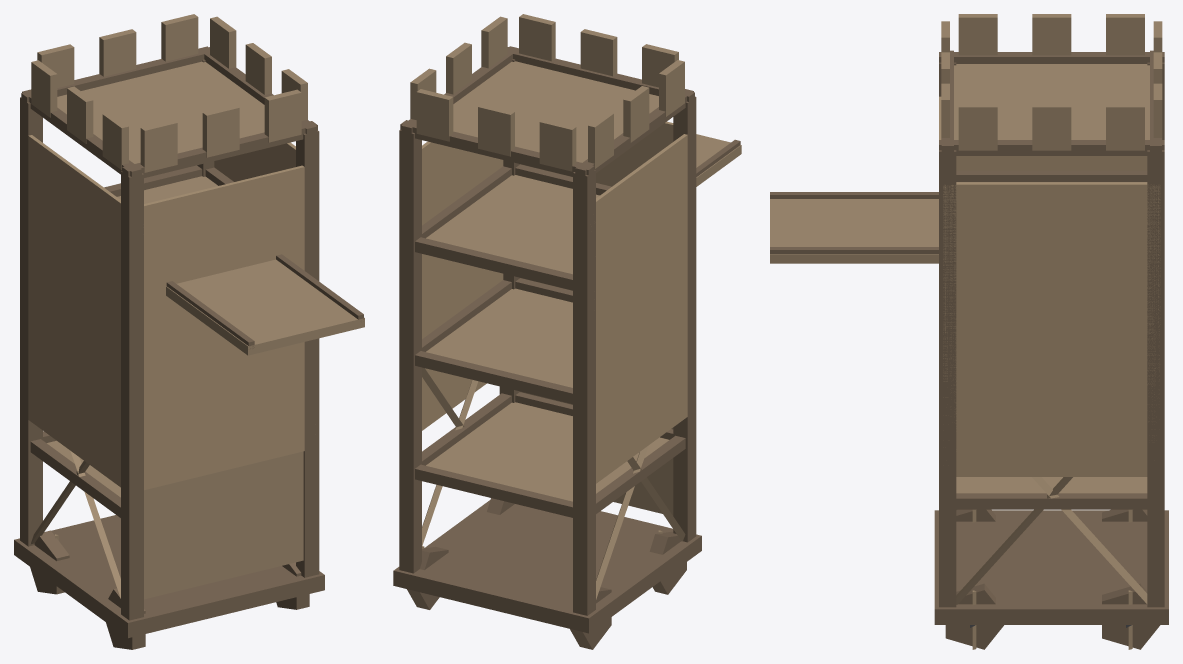
The model's file is siege_tower_lod.glb.
The picture shows the model from 3 angles, left to right: view 1: azimuth 30°, elevation 25°; view 2: azimuth 150°, elevation 25°; view 3: azimuth 270°, elevation 25°; orthographic projection. The views are drawn at different scales.
Parts seen in each view (by area): view 1: Body, Bridge, Wheel_0, Wheel_2, Wheel_3; view 2: Body, Bridge, Wheel_2, Wheel_1, Wheel_0; view 3: Body, Bridge, Wheel_1, Wheel_3, Wheel_0.
Boxes of the visible parts, x1,y1,x2,y2 form: Body: [14, 14, 324, 638]; Bridge: [166, 254, 364, 355]; Wheel_0: [30, 530, 69, 594]; Wheel_2: [106, 588, 145, 649]; Wheel_3: [276, 562, 309, 609]; Body: [393, 14, 701, 633]; Bridge: [696, 134, 741, 186]; Wheel_2: [649, 530, 686, 594]; Wheel_1: [407, 546, 448, 609]; Wheel_0: [570, 587, 611, 649]; Body: [934, 14, 1168, 624]; Bridge: [770, 192, 938, 263]; Wheel_1: [1102, 583, 1160, 649]; Wheel_3: [945, 583, 1003, 649]; Wheel_0: [1102, 509, 1147, 522].
Bounding box in the file's own units: 5.4 × 13.86 × 9.2.
